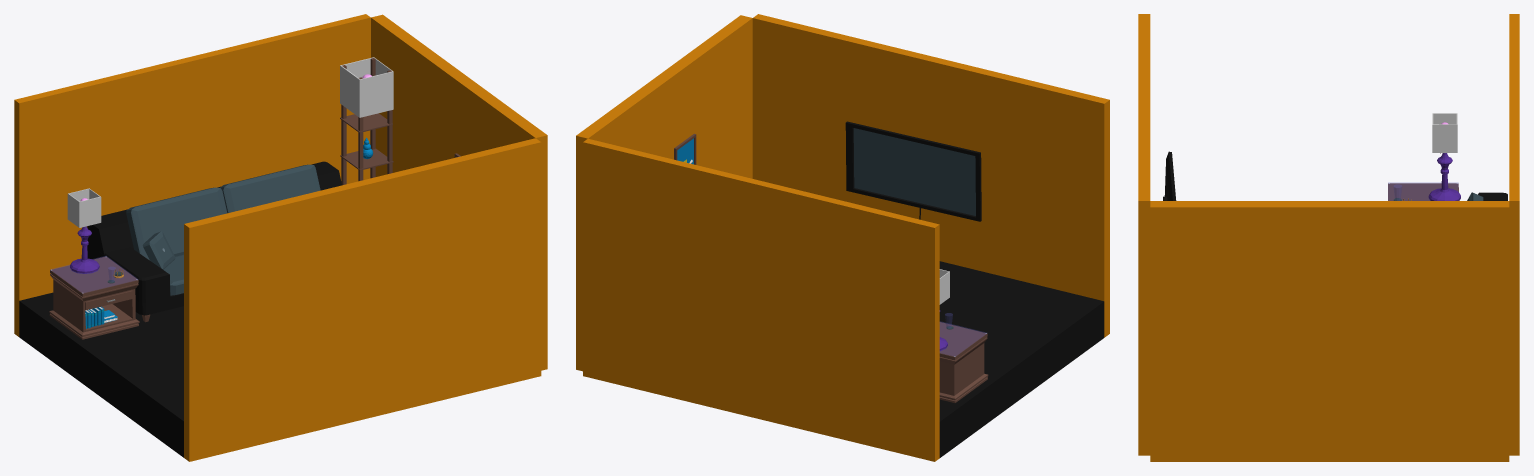
3 renders of one model, left to right at view 1: azimuth 30°, elevation 25°; view 2: azimuth 150°, elevation 25°; view 3: azimuth 270°, elevation 25°, orthographic. The views are drawn at different scales.
Parts seen in each view (by area): view 1: node_MeshObject690842496-PolyPaper2, node_MeshObject1029071040-PolyPaper22, node_MeshObject-2095731264-PolyPaper22, node_MeshObject-931479040-PolyPaper22, node_MeshObject910848064-PolyGlass24; view 2: node_MeshObject690842496-PolyPaper2, node_MeshObject1029071040-PolyPaper22, node_MeshObject-2095731264-PolyPaper22, node_MeshObject910848064-PolyGlass24; view 3: node_MeshObject690842496-PolyPaper2, node_MeshObject910848064-PolyGlass24, node_MeshObject-2095731264-PolyPaper22, node_MeshObject1029071040-PolyPaper22.
Boxes of the visible parts, x1,y1,x2,y2 form: node_MeshObject690842496-PolyPaper2: [14, 14, 547, 461]; node_MeshObject1029071040-PolyPaper22: [85, 70, 392, 322]; node_MeshObject-2095731264-PolyPaper22: [49, 161, 341, 339]; node_MeshObject-931479040-PolyPaper22: [340, 57, 393, 185]; node_MeshObject910848064-PolyGlass24: [50, 256, 138, 293]; node_MeshObject690842496-PolyPaper2: [576, 14, 1109, 461]; node_MeshObject1029071040-PolyPaper22: [845, 121, 981, 221]; node_MeshObject-2095731264-PolyPaper22: [939, 322, 988, 402]; node_MeshObject910848064-PolyGlass24: [940, 313, 986, 356]; node_MeshObject690842496-PolyPaper2: [1138, 14, 1519, 461]; node_MeshObject910848064-PolyGlass24: [1388, 182, 1458, 200]; node_MeshObject-2095731264-PolyPaper22: [1388, 183, 1458, 200]; node_MeshObject1029071040-PolyPaper22: [1163, 151, 1507, 200].
Size of the model in its own units: 3.05 by 1.87 by 2.54.
